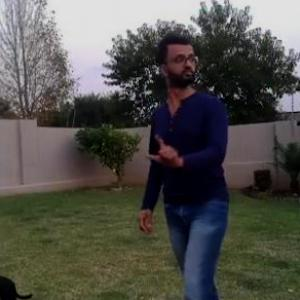land_hand: (140, 128, 182, 173)
